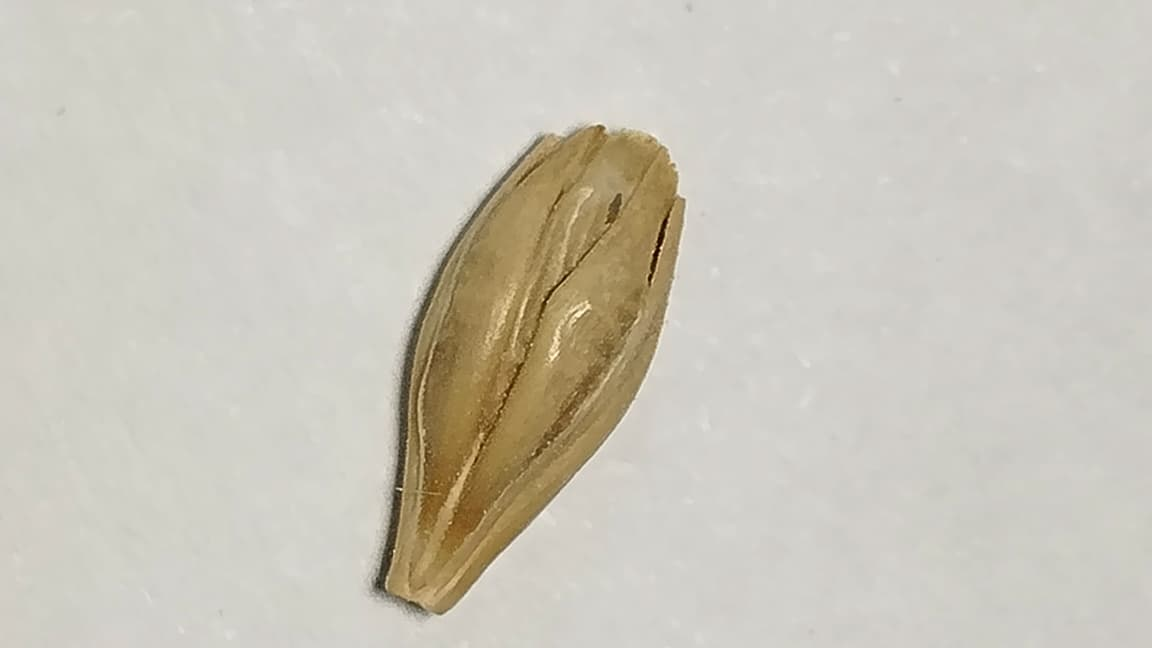healthy-70-60: (383, 125, 684, 612)
